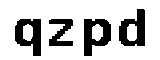d: (116, 5, 149, 50)
p: (78, 14, 112, 60)
q: (10, 17, 44, 60)
z: (47, 16, 76, 52)
